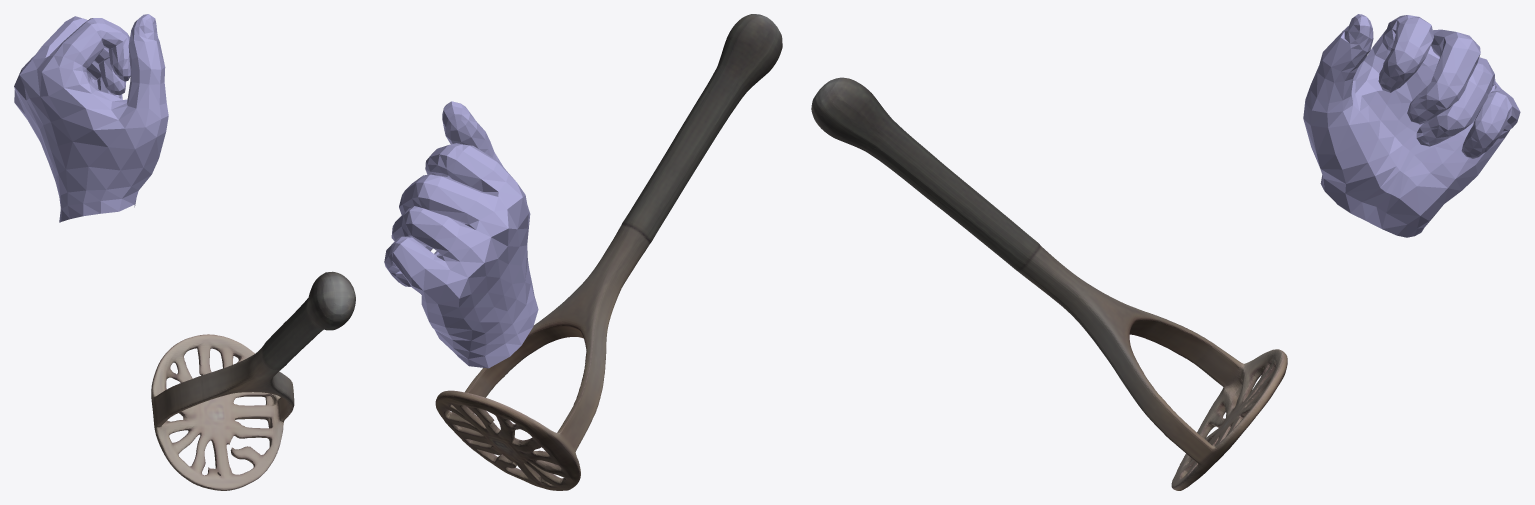
Rendered from frame_0073_source_000073_hand_object.glb.
3 renders of one model, left to right at view 1: azimuth 30°, elevation 25°; view 2: azimuth 150°, elevation 25°; view 3: azimuth 270°, elevation 25°, orthographic. The views are drawn at different scales.
Visible parts, largest first — view 1: world; view 2: world; view 3: world.
Part boxes in pixels (bbox=[...]): world: bbox=[14, 14, 355, 490]; world: bbox=[384, 14, 782, 490]; world: bbox=[811, 14, 1520, 490].
Size of the model in its own units: 0.0968 by 0.2412 by 0.333.
